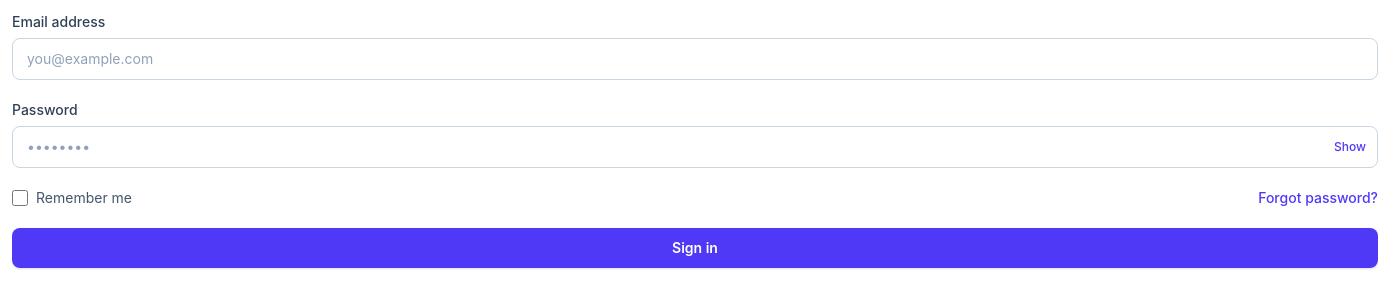
Test: LoginForm › shows a loading state while signing in
Type "jane@example.com" into the field labelled "Email address". click: (695, 59)
box: [12, 38, 1378, 80]
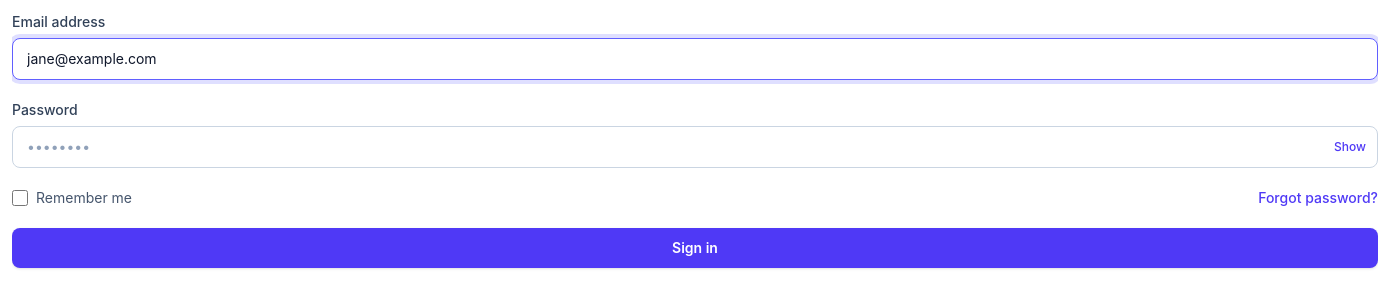
Type "password1" into the password field labelled "Password". click: (695, 147)
box: [12, 126, 1378, 168]
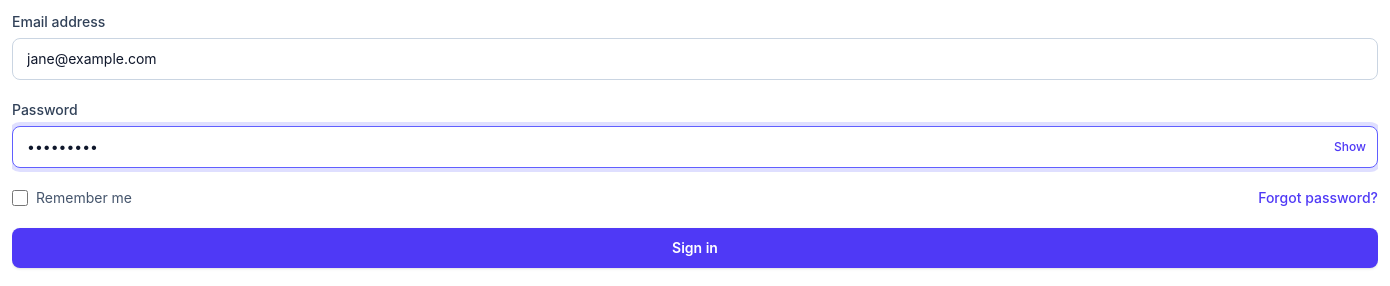
Click the button "Sign in". click: (695, 248)
box: [12, 228, 1378, 268]
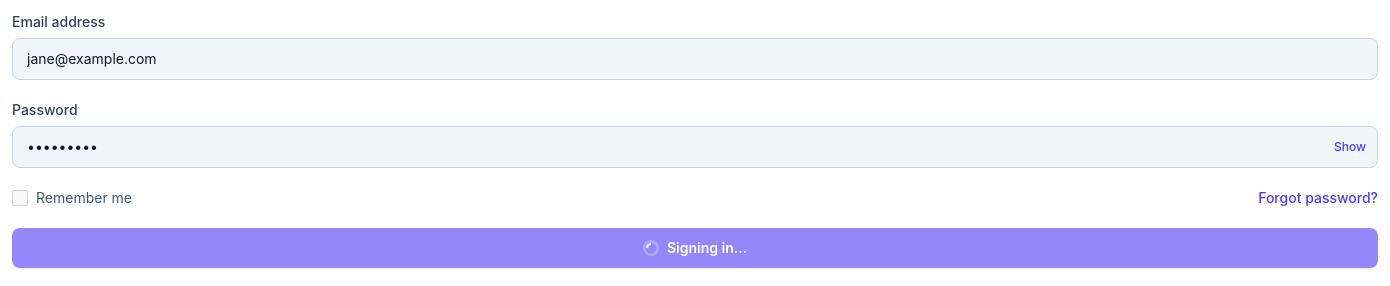
Expected: the field labelled "Email address" is disabled, [12, 38, 1378, 80]
Expected: the button "Signing in…" is disabled, [12, 228, 1378, 268]
